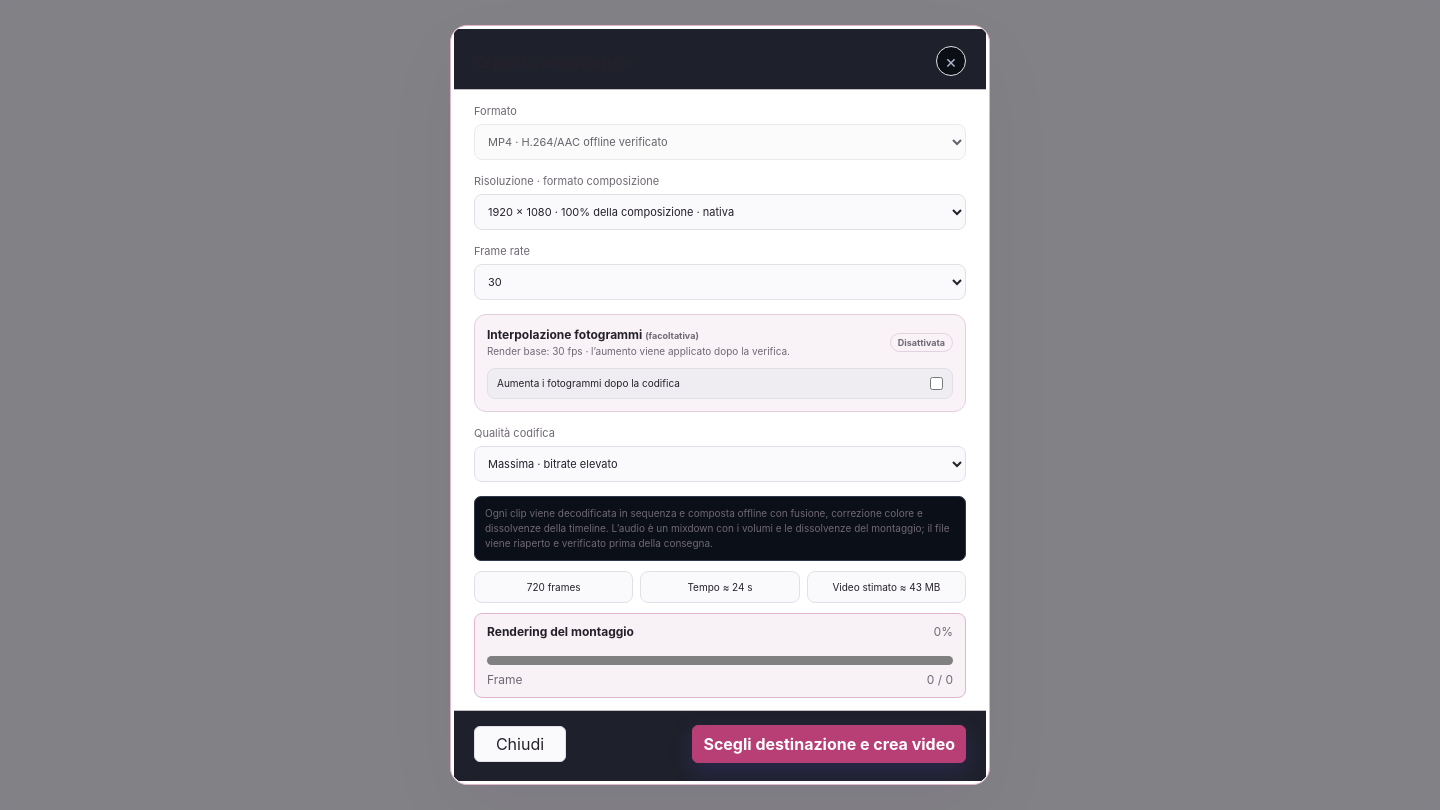
Test: ExportDialog › montaggio Video Editor › avverte quando il servizio locale non risponde, senza impedire l’export
The width and height of the screenshot is (1440, 810).
Step 1. Click the checkbox named "Attiva interpolazione dei fotogrammi" → click(936, 383), box [930,376,943,390]
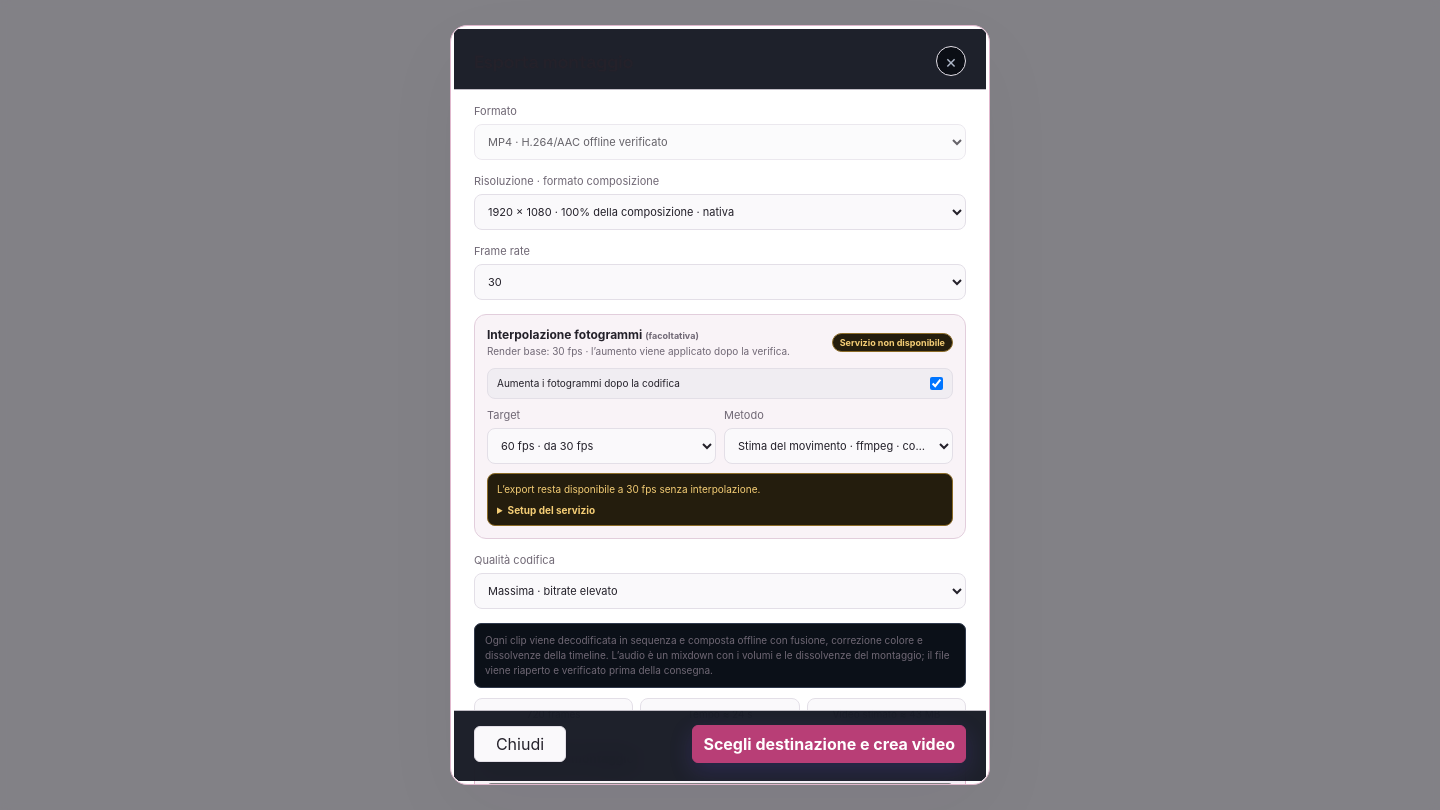
Expected: the button "Scegli destinazione e crea video" is enabled, [692,725,966,763]
Expected: the text "Servizio non disponibile" is shown, [832,333,953,352]
Expected: the text "L’export resta disponibile a 30 fps senza interpolazione." is shown, [497,482,760,494]
